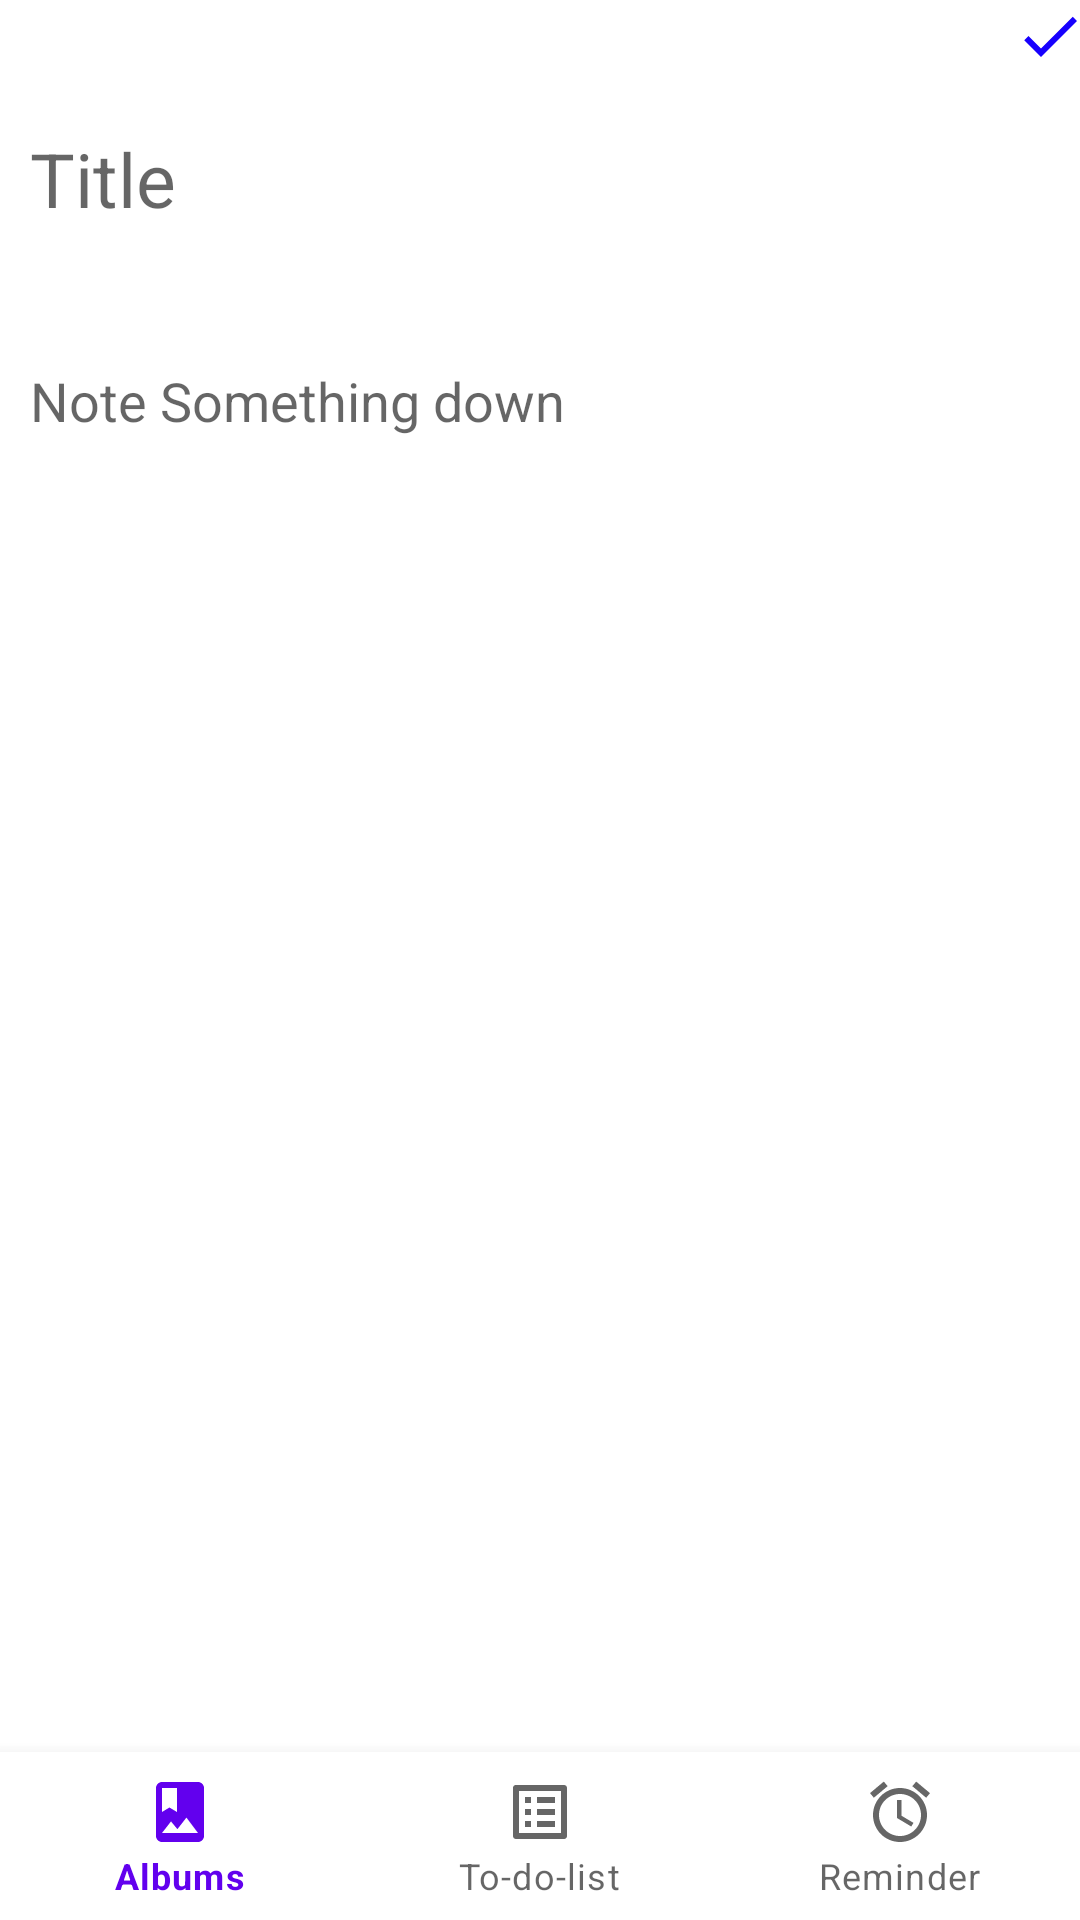

Where to tap for icons on this 1080 x 1920 app screen, as [x,y]:
check: [1050,37]
